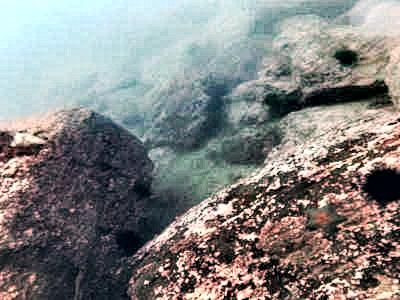urchin: (357, 160, 397, 206), (332, 46, 357, 64)
